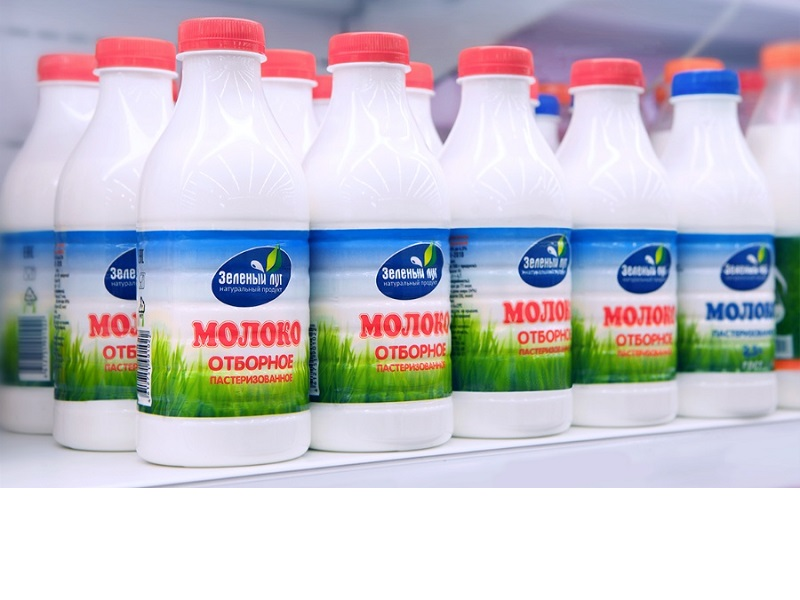milk: (135, 18, 326, 476), (289, 30, 461, 463), (433, 44, 580, 453), (559, 58, 691, 444), (666, 66, 788, 434)
